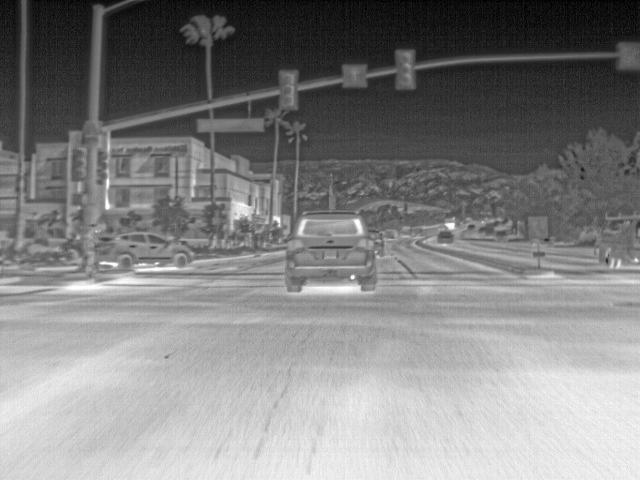car: (286, 208, 378, 293), (96, 231, 196, 269), (594, 211, 640, 269), (368, 230, 386, 257), (437, 230, 455, 244), (495, 229, 509, 242), (388, 229, 398, 238), (402, 226, 412, 235), (466, 224, 476, 232), (486, 221, 494, 231), (486, 227, 494, 236), (480, 225, 487, 234)
person: (84, 223, 102, 277)
